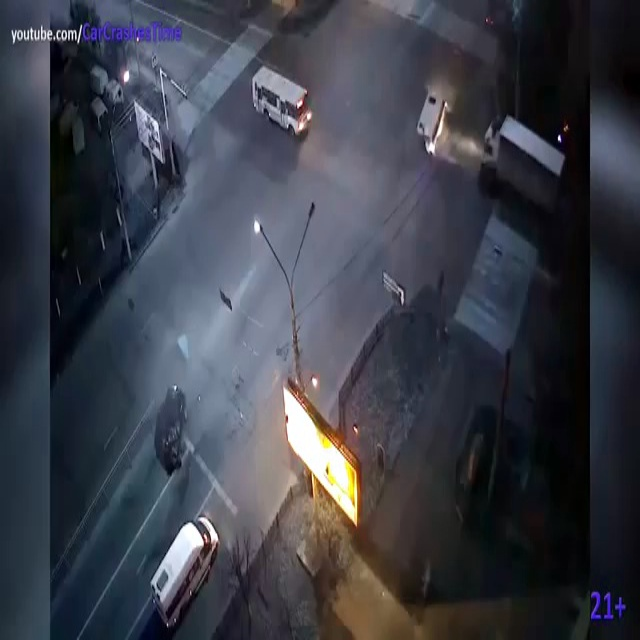acc: (152, 383, 188, 475)
